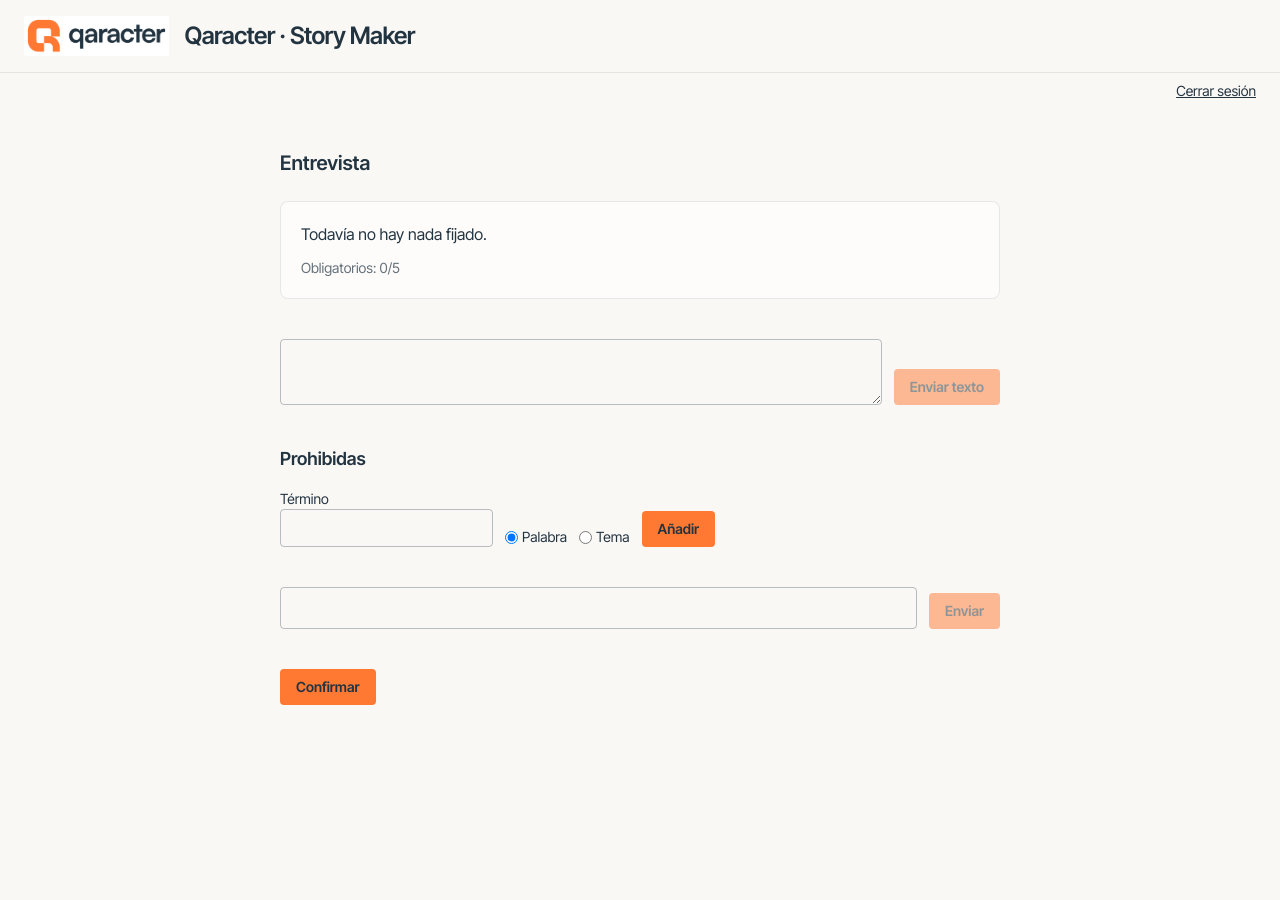
Test case: 024 entrevista: chat › 024-C03: a failed message keeps it in the field and shows the reason, history unchanged
Expected: the form named "Entrevista" is shown, [280,587,1000,629]
Type "Se llama Marta" into the field named "Mensaje" at (598, 608), box [280,587,917,629]
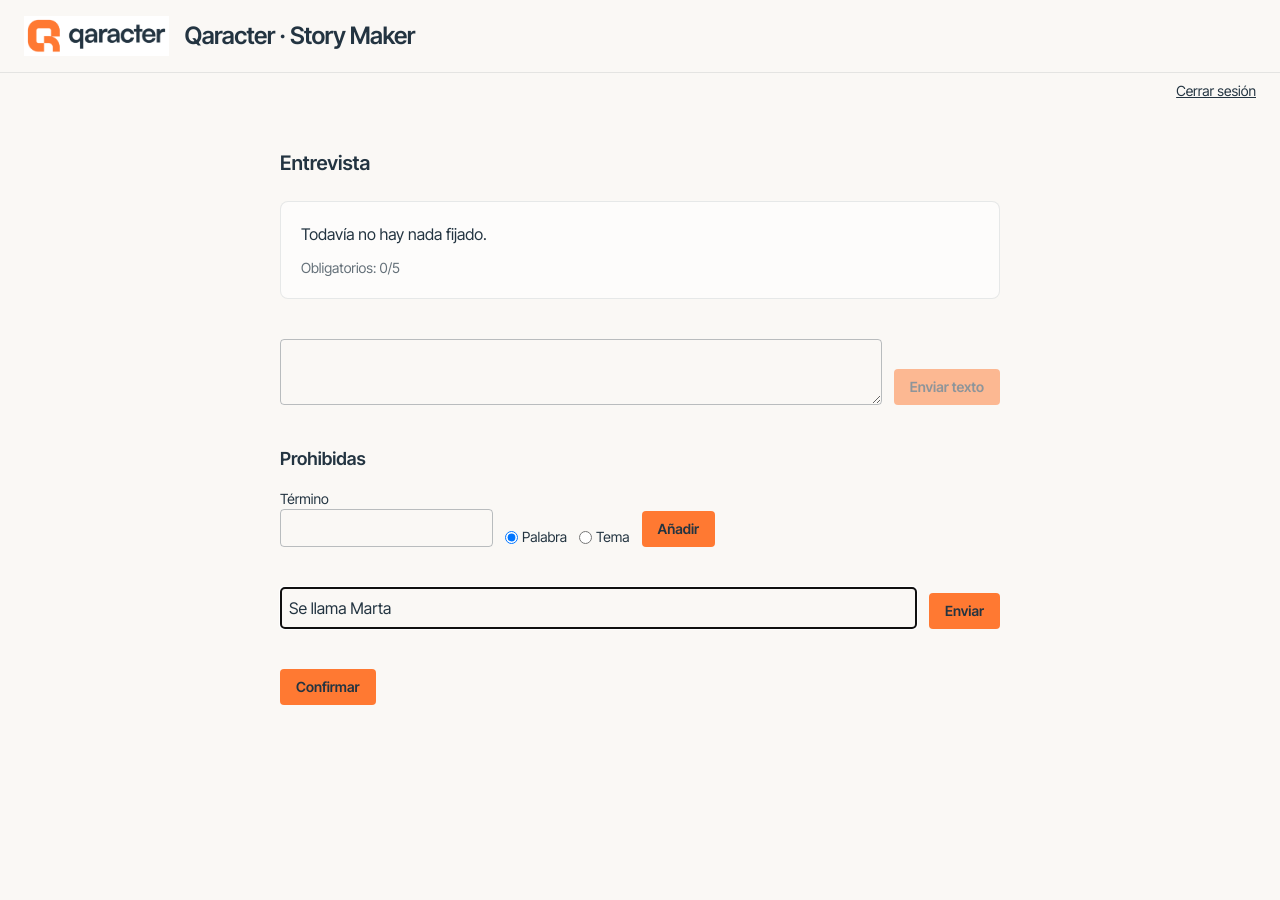
Click the button "Enviar" at (964, 611), box [929,593,1000,629]
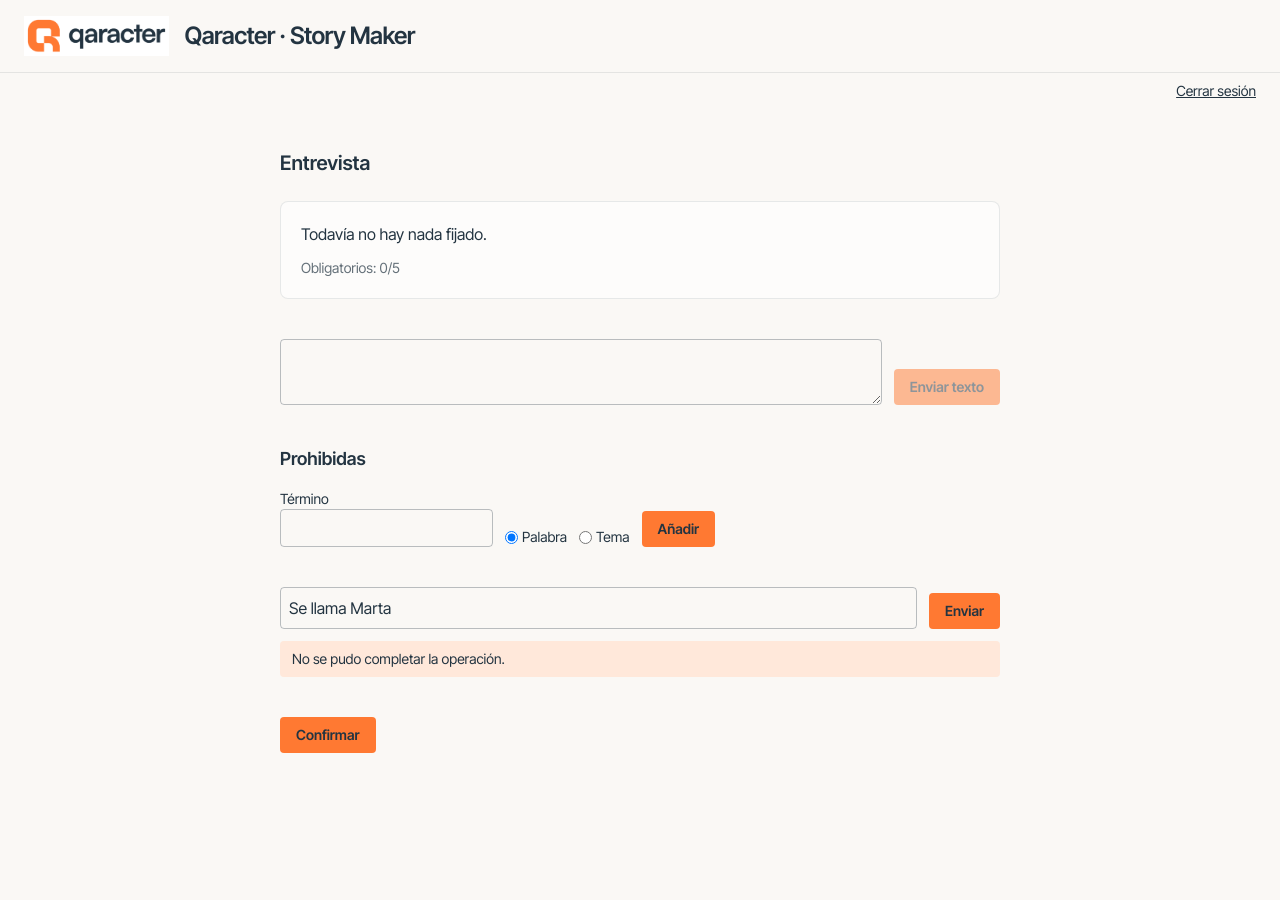
Result: the message "No se pudo completar la operación." is shown at [280,641,1000,677]
